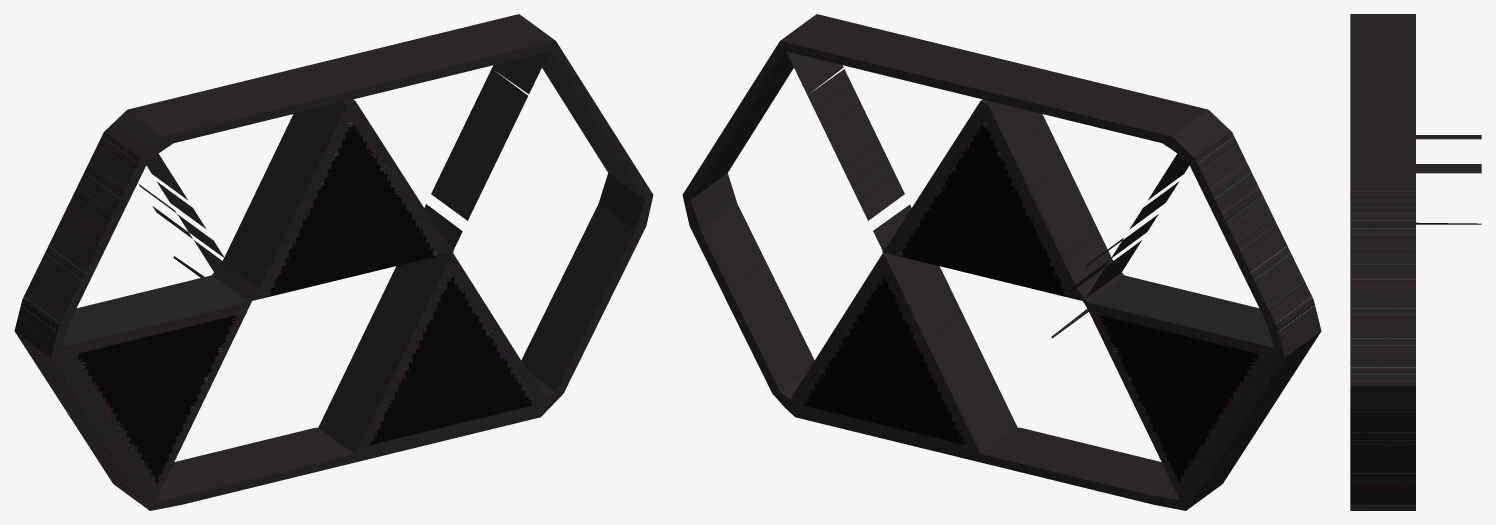
File: construction-blockchain-consortium.glb
The picture shows the model from 3 angles, left to right: view 1: azimuth 30°, elevation 25°; view 2: azimuth 150°, elevation 25°; view 3: azimuth 270°, elevation 25°; orthographic projection. The views are drawn at different scales.
Visible parts, largest first — view 1: Curve; view 2: Curve; view 3: Curve.
Part boxes in pixels (x1,y1,x2,y2): Curve: (14, 14, 653, 510); Curve: (682, 14, 1321, 510); Curve: (1350, 14, 1481, 510).
Bounding box in the file's own units: 0.0472 × 0.0279 × 0.01.
Materials: 1 (1 with a texture image).
